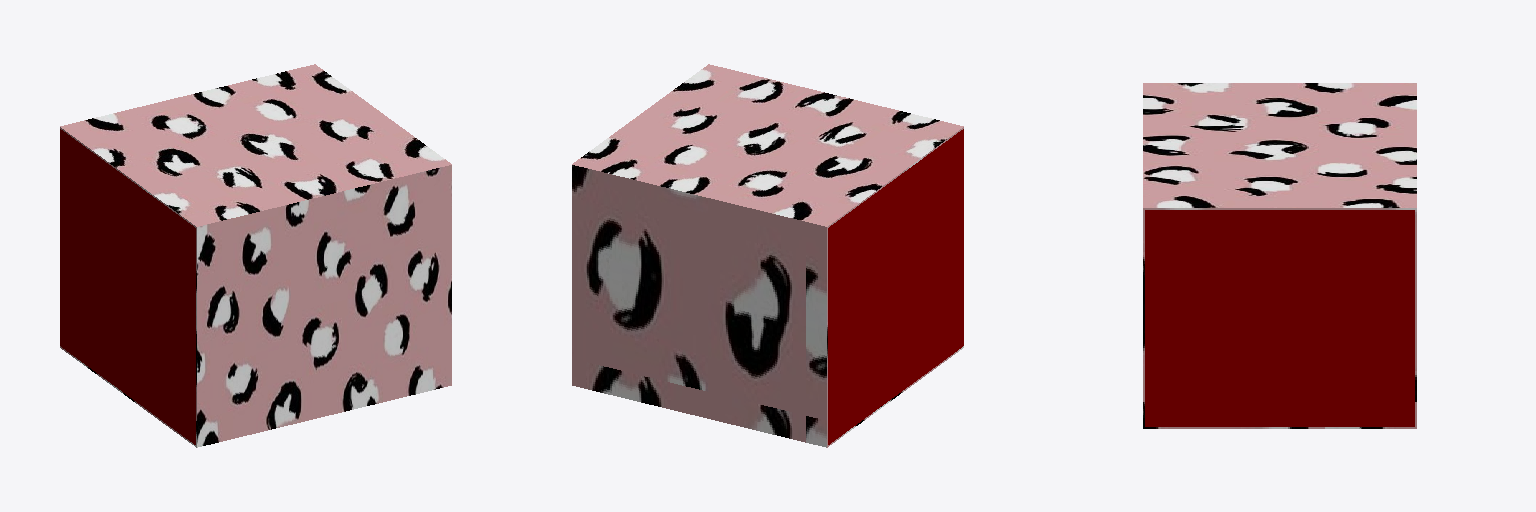
3 views of the same model, side by side, from view 1: azimuth 30°, elevation 25°; view 2: azimuth 150°, elevation 25°; view 3: azimuth 270°, elevation 25° (orthographic).
Visible parts, largest first — view 1: MIN#5.001_Mesh_16.002, MAXI_EDXTRA#1.001_Mesh_31.002; view 2: MIN#5.001_Mesh_16.002, MAXI_EDXTRA#1.001_Mesh_31.002; view 3: MAXI_EDXTRA#1.001_Mesh_31.002, MIN#5.001_Mesh_16.002.
Boxes of the visible parts, x1=… form: MIN#5.001_Mesh_16.002: x1=60, y1=64, x2=451, y2=447; MAXI_EDXTRA#1.001_Mesh_31.002: x1=60, y1=129, x2=195, y2=444; MIN#5.001_Mesh_16.002: x1=572, y1=64, x2=963, y2=447; MAXI_EDXTRA#1.001_Mesh_31.002: x1=828, y1=129, x2=963, y2=444; MAXI_EDXTRA#1.001_Mesh_31.002: x1=1145, y1=210, x2=1414, y2=426; MIN#5.001_Mesh_16.002: x1=1143, y1=83, x2=1416, y2=428.
Bounding box in the file's own units: 0.327 × 0.27 × 0.304.
2 materials, 1 textured.